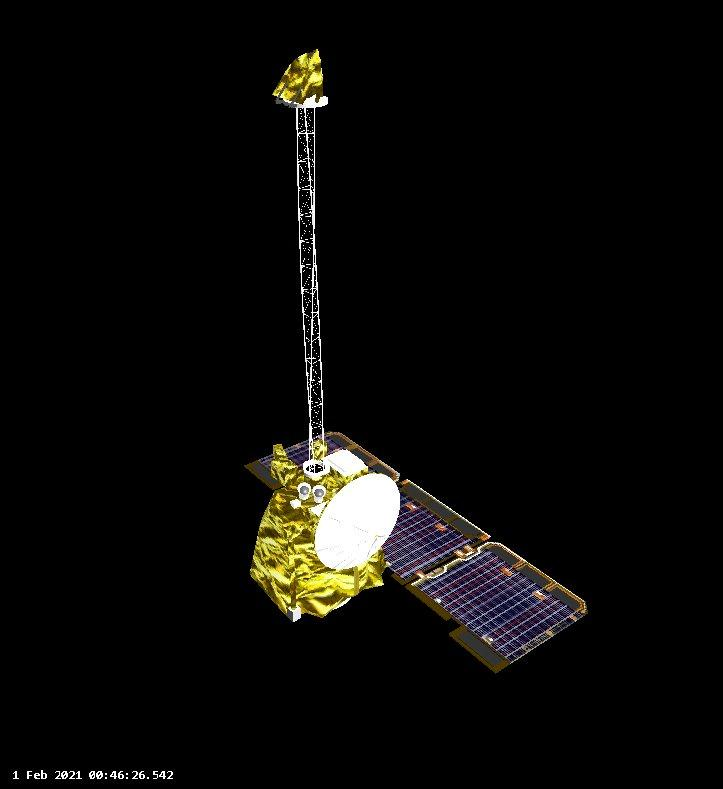antenna: (268, 45, 335, 485), (309, 468, 402, 572)
body: (243, 457, 393, 623)
solar: (243, 423, 593, 673)
